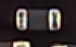COMP: (9, 7, 66, 34)
GAP: (15, 23, 30, 47)
